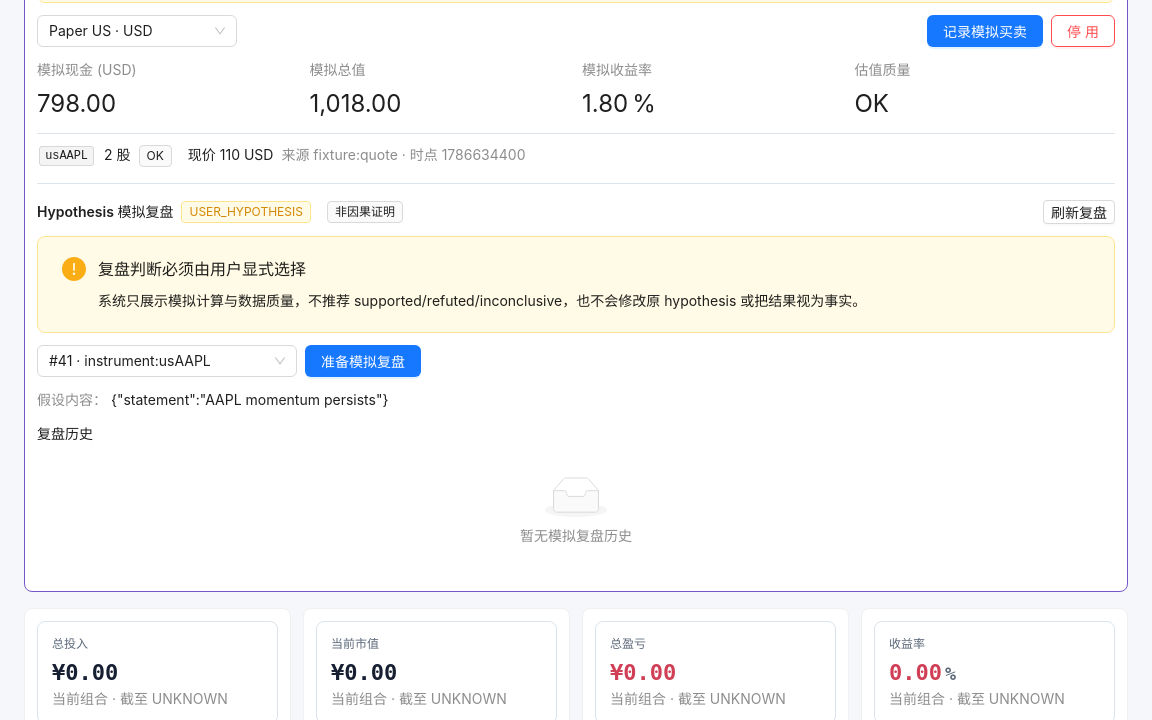
Test: Paper portfolio states › keeps an UNKNOWN draft inconclusive and exposes provenance and formulas
(page scrolled)
Click the button "准备模拟复盘".
click(363, 361)  # box [305,345,421,377]
(page scrolled)
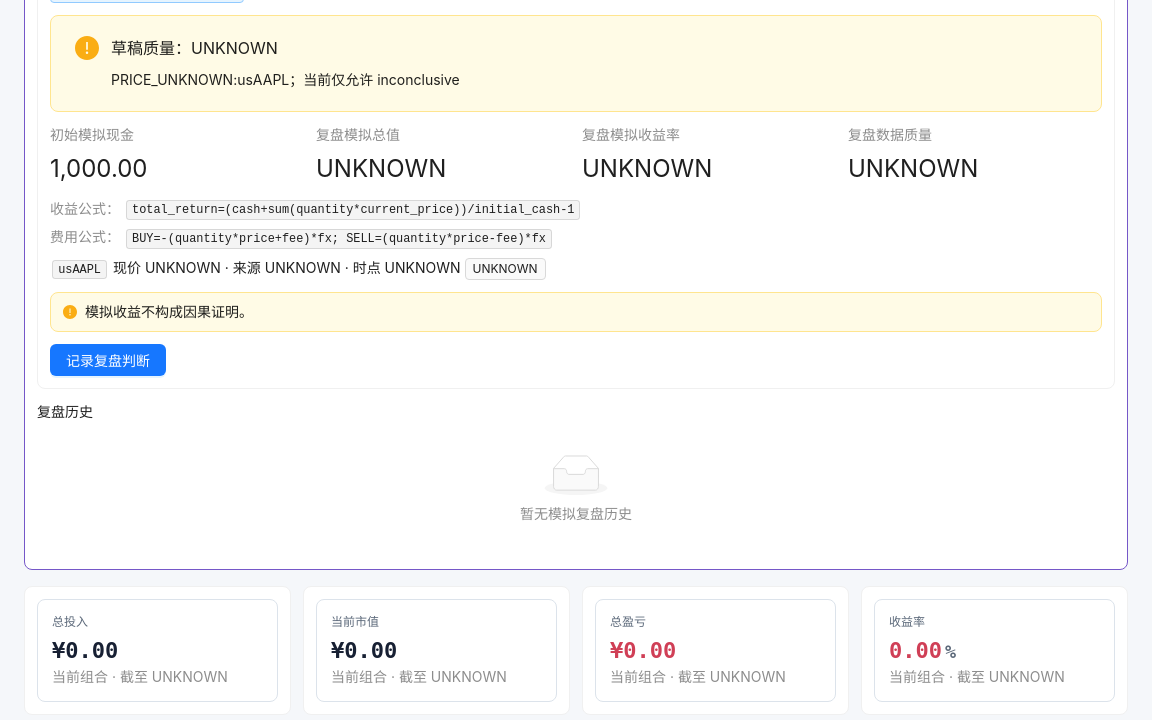
Result: the text "草稿质量：UNKNOWN" is shown at [111,38,278,58]
Result: the text "PRICE_UNKNOWN:usAAPL；当前仅允许 inconclusive" is shown at [111,71,460,88]
Result: the text "total_return=" is shown at [132,204,574,218]
Click the button "记录复盘判断".
click(108, 360)  # box [50,344,166,376]
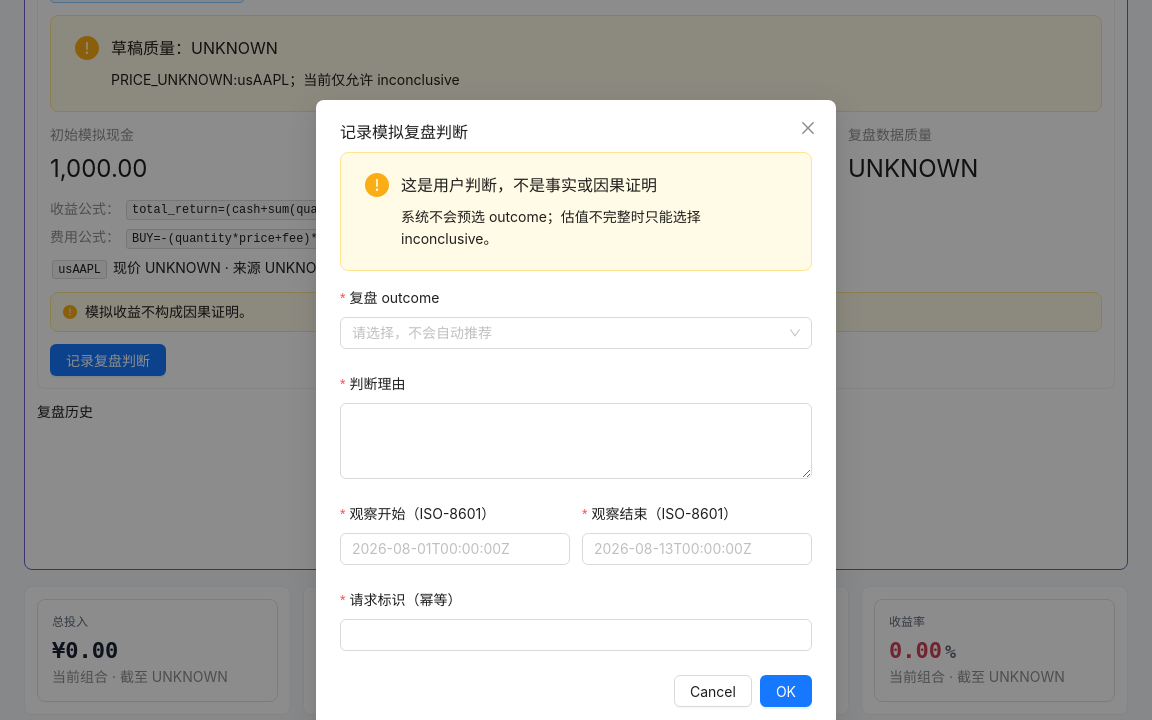
Result: the text "这是用户判断，不是事实或因果证明" is shown at [401,175,657,195]
Result: the text "系统不会预选 outcome；估值不完整时只能选择 inconclusive。" is shown at [401,208,701,247]
